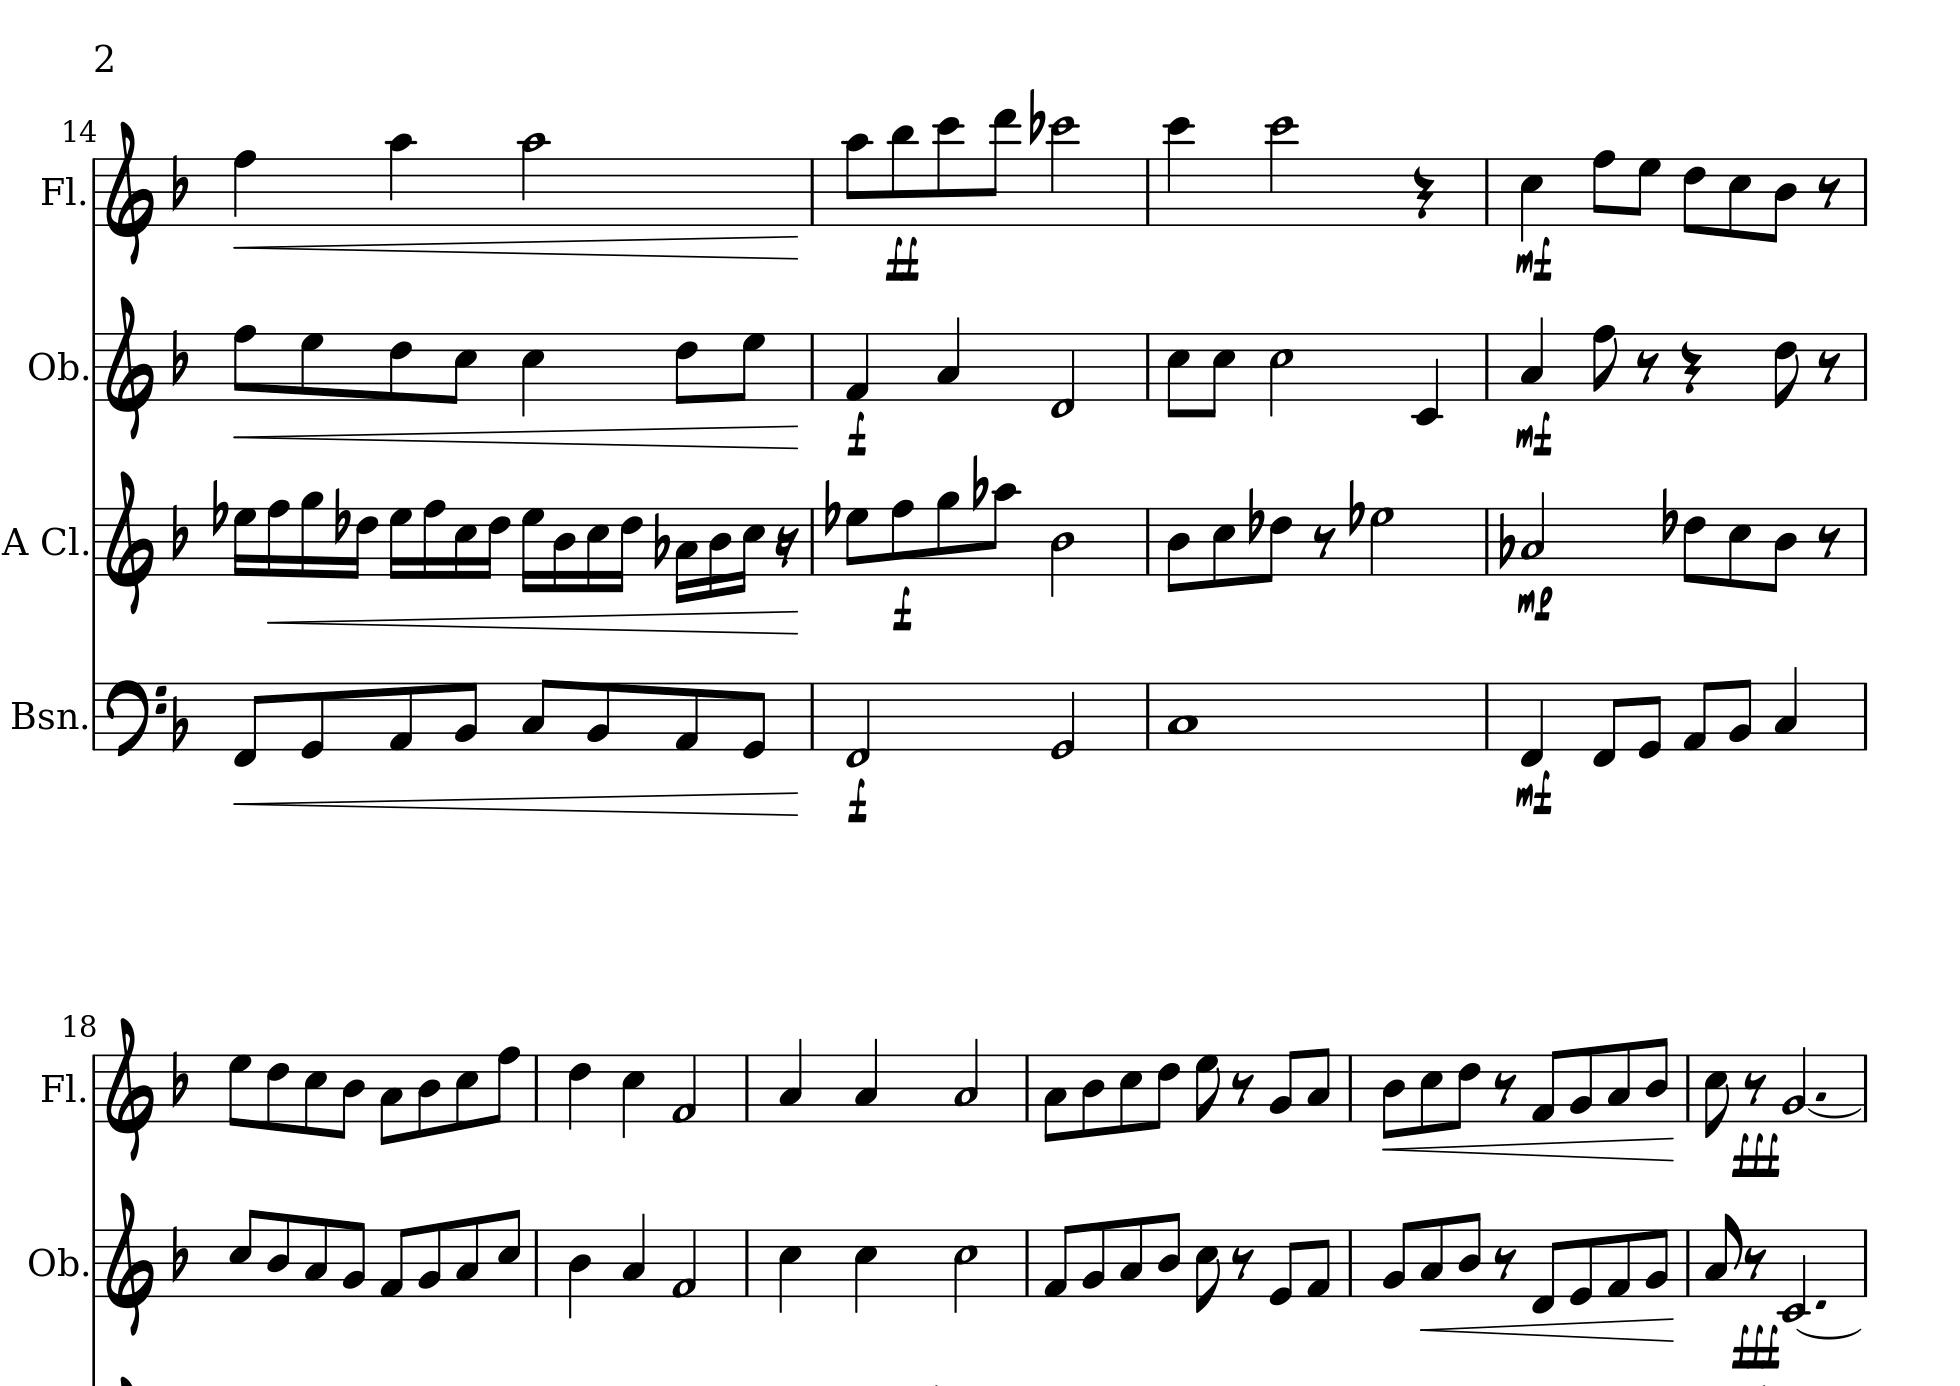1: (61, 117, 76, 145), (61, 1011, 75, 1038)
16_3: (673, 505, 697, 604)
16_4: (550, 505, 577, 594), (706, 507, 730, 598)
16_5: (733, 505, 765, 595), (583, 505, 609, 594), (453, 505, 478, 580)
16_6: (610, 505, 643, 592), (480, 505, 511, 580), (348, 505, 378, 580)
16_7: (519, 505, 546, 594), (387, 505, 412, 580), (232, 505, 256, 577)
16_8: (421, 496, 445, 580), (265, 498, 289, 577)
16_9: (298, 489, 324, 579)
1_3: (1167, 681, 1198, 751)
2: (91, 40, 115, 73)
2_-1: (844, 679, 871, 768), (1050, 330, 1075, 418)
2_-2: (1779, 1225, 1809, 1321)
2_0: (1050, 679, 1077, 760)
2_1: (670, 1051, 697, 1123), (670, 1227, 697, 1299)
2_10: (519, 130, 549, 228)
2_12: (1266, 112, 1297, 229), (1047, 114, 1078, 228)
2_2: (1780, 1044, 1809, 1123)
2_3: (952, 1036, 979, 1122), (1521, 489, 1546, 574)
2_4: (1050, 505, 1075, 597)
2_5: (1267, 331, 1294, 418), (952, 1225, 979, 1312)
2_7: (1368, 505, 1395, 577)
4: (79, 117, 97, 145)
4_-1: (1519, 679, 1545, 768)
4_-2: (1413, 331, 1440, 427)
4_1: (844, 331, 870, 402)
4_10: (387, 132, 415, 228)
4_12: (1164, 115, 1194, 228)
4_3: (1773, 666, 1800, 751), (778, 1036, 804, 1123), (621, 1210, 646, 1297), (936, 315, 961, 400), (853, 1036, 879, 1122), (1521, 315, 1545, 400)
4_4: (567, 1227, 592, 1318)
4_5: (519, 330, 546, 418), (619, 1051, 646, 1138), (777, 1227, 802, 1314), (853, 1227, 877, 1314), (1519, 156, 1543, 241)
4_6: (567, 1051, 592, 1132)
4_8: (232, 148, 256, 226)
8: (78, 1011, 96, 1038)
8_-1: (229, 679, 265, 769), (1530, 1227, 1563, 1317), (1590, 681, 1623, 769)
8_0: (1267, 1227, 1299, 1308), (739, 681, 768, 760), (298, 681, 325, 760), (1638, 681, 1665, 760), (1569, 1227, 1596, 1306)
8_1: (1042, 1222, 1077, 1297), (1530, 1047, 1563, 1123), (378, 1225, 411, 1297), (1683, 679, 1713, 753), (672, 679, 700, 753), (387, 679, 415, 751), (1606, 1225, 1632, 1299), (1306, 1227, 1332, 1299)
8_10: (984, 483, 1018, 577), (843, 132, 873, 226)
8_11: (888, 124, 918, 226)
8_12: (934, 115, 964, 226)
8_13: (984, 106, 1021, 226)
8_2: (1380, 1219, 1413, 1297), (1267, 1048, 1299, 1123), (1081, 1219, 1107, 1299), (340, 1219, 366, 1297), (417, 1221, 442, 1297), (1569, 1045, 1593, 1123), (585, 679, 610, 751), (1644, 1225, 1669, 1297), (1728, 676, 1752, 751), (453, 681, 478, 751)
8_3: (1704, 1210, 1741, 1297), (520, 676, 553, 751), (1041, 1053, 1068, 1144), (378, 1051, 403, 1147), (454, 1213, 481, 1299), (1119, 1215, 1146, 1299), (1419, 1215, 1446, 1299), (1606, 1039, 1632, 1123), (303, 1215, 328, 1299), (1306, 1045, 1332, 1123)
8_4: (1765, 156, 1798, 244), (1767, 505, 1798, 594), (334, 1053, 364, 1141), (1380, 1053, 1407, 1141), (1165, 505, 1191, 595), (1080, 1051, 1105, 1138), (1644, 1036, 1669, 1123), (265, 1210, 291, 1297), (415, 1051, 441, 1137), (1158, 1210, 1182, 1297), (1458, 1210, 1482, 1297)
8_5: (228, 1206, 259, 1297), (1203, 331, 1236, 418), (1701, 1051, 1731, 1138), (445, 331, 478, 405), (1725, 505, 1753, 589), (1194, 1227, 1221, 1314), (496, 1207, 522, 1297), (1725, 154, 1752, 238), (1165, 331, 1191, 420), (1210, 505, 1236, 589), (301, 1051, 327, 1135), (1117, 1051, 1143, 1132), (1417, 1053, 1443, 1134), (454, 1051, 478, 1131)
8_6: (1260, 505, 1293, 585), (1449, 1053, 1482, 1132), (1150, 1051, 1182, 1129), (1773, 331, 1801, 411), (1681, 154, 1707, 235), (1681, 505, 1707, 586), (264, 1051, 289, 1132), (673, 331, 699, 406), (387, 330, 412, 403)
8_7: (732, 331, 766, 403), (1630, 156, 1662, 226), (226, 1051, 252, 1128), (1194, 1051, 1221, 1123), (298, 331, 325, 402), (844, 505, 868, 576)
8_8: (489, 1044, 520, 1125), (1591, 322, 1620, 403), (889, 498, 915, 577), (1591, 148, 1617, 226), (232, 322, 256, 403)
8_9: (934, 490, 960, 577)
Bsn: (10, 697, 79, 736)
Cl: (40, 522, 79, 559)
Crescendo_hairpin: (232, 423, 801, 451), (232, 235, 801, 262), (232, 790, 799, 817), (268, 607, 801, 634), (1384, 1135, 1680, 1164), (1425, 1315, 1675, 1342)
Fclef: (105, 676, 166, 760)
Fl: (37, 172, 76, 210), (37, 1069, 78, 1105)
Flat: (169, 691, 192, 754), (168, 1048, 190, 1108), (168, 1222, 190, 1281), (169, 327, 190, 387), (169, 151, 189, 211), (169, 502, 189, 562), (331, 484, 351, 544), (210, 475, 228, 538), (652, 508, 670, 571), (822, 477, 840, 538), (1347, 477, 1365, 538), (1027, 85, 1045, 145), (970, 451, 988, 511), (1497, 510, 1515, 570), (1659, 486, 1677, 546), (1246, 486, 1264, 544)
Gclef: (103, 1014, 154, 1161), (103, 1189, 154, 1336), (103, 469, 154, 615), (103, 120, 154, 264), (105, 294, 154, 439)
Ob: (27, 346, 79, 385), (27, 1243, 79, 1279)
Rests16: (774, 523, 799, 570)
Rests4: (1411, 163, 1437, 222), (1678, 337, 1704, 394)
Rests8: (1816, 523, 1843, 559), (1816, 174, 1843, 208), (1816, 349, 1843, 384), (1312, 523, 1338, 559), (1230, 1069, 1255, 1105), (1743, 1069, 1768, 1105), (1230, 1245, 1255, 1281), (1492, 1245, 1518, 1281), (1635, 349, 1660, 384), (1743, 1245, 1768, 1279), (1494, 1069, 1518, 1105)
Single_barline: (1857, 157, 1875, 225), (1857, 333, 1875, 399), (1857, 508, 1875, 574), (1017, 1054, 1035, 1120), (1140, 157, 1156, 225), (1140, 507, 1156, 574), (738, 1228, 754, 1296), (804, 157, 820, 223), (1479, 157, 1495, 223), (1140, 333, 1156, 399), (1479, 508, 1495, 574), (1140, 682, 1156, 748), (1858, 682, 1875, 748), (528, 1054, 544, 1120), (528, 1228, 544, 1294), (1479, 333, 1495, 397), (87, 1053, 102, 1122), (87, 1228, 102, 1297), (87, 333, 102, 400), (87, 508, 102, 576), (1344, 1228, 1359, 1296), (805, 508, 820, 574), (87, 682, 102, 748), (1479, 682, 1494, 748), (1344, 1054, 1359, 1120), (739, 1054, 754, 1120), (1020, 1228, 1035, 1294), (1858, 1228, 1873, 1294), (805, 333, 820, 397), (805, 682, 820, 747), (87, 157, 100, 226), (1858, 1054, 1872, 1122), (1681, 1054, 1695, 1120), (1681, 1228, 1695, 1294)
Slur: (1795, 1326, 1863, 1339), (1806, 1105, 1863, 1117)
dot: (1813, 1296, 1830, 1311), (1813, 1087, 1828, 1102)
f: (844, 409, 868, 457), (889, 586, 913, 631), (846, 777, 868, 825)
ff: (883, 234, 919, 283)
fff: (1729, 1129, 1782, 1180), (1728, 1321, 1782, 1371)
mf: (1513, 235, 1554, 283), (1513, 409, 1554, 457), (1515, 768, 1554, 817)
mp: (1515, 585, 1555, 622)
